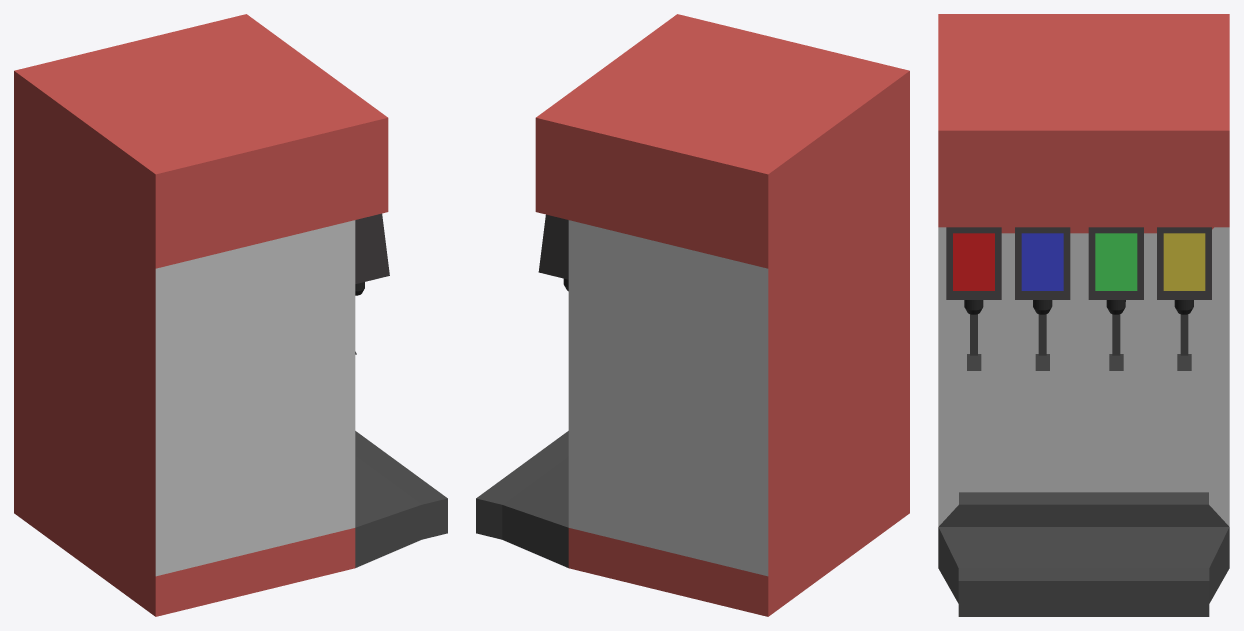
The model's file is softdrink macthine.fbx.
The picture shows the model from 3 angles, left to right: view 1: azimuth 30°, elevation 25°; view 2: azimuth 150°, elevation 25°; view 3: azimuth 270°, elevation 25°; orthographic projection. The views are drawn at different scales.
Parts seen in each view (by area): view 1: Cube, Cube.001; view 2: Cube, Cube.008; view 3: Cube, Cube.001, Cube.004, Cube.005, Cube.008, Cube.003, Cube.006, Cube.007, Cube.002.
Part boxes in pixels (bbox=[...]): Cube: bbox=[14, 14, 447, 616]; Cube.001: bbox=[355, 213, 389, 283]; Cube: bbox=[476, 14, 909, 616]; Cube.008: bbox=[538, 214, 568, 279]; Cube: bbox=[938, 14, 1229, 616]; Cube.001: bbox=[946, 227, 1001, 299]; Cube.004: bbox=[1015, 227, 1070, 299]; Cube.005: bbox=[1088, 227, 1143, 299]; Cube.008: bbox=[1157, 227, 1211, 299]; Cube.003: bbox=[1035, 314, 1049, 370]; Cube.006: bbox=[1109, 314, 1123, 370]; Cube.007: bbox=[1177, 314, 1191, 370]; Cube.002: bbox=[967, 314, 981, 370].
Size of the model in its own units: 425 by 595 by 345.
